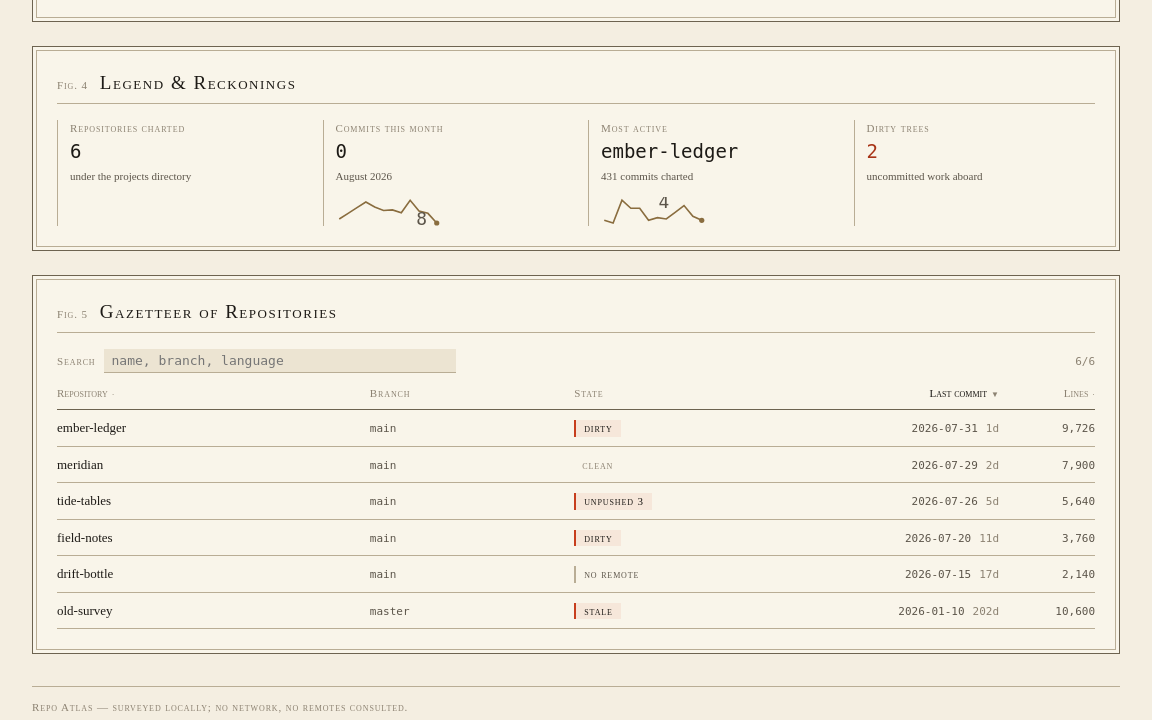
Test case: Fig. 5 — gazetteer › search narrows the rows live and reports the count
(page scrolled)
Check: the text "Gazetteer of Repositories" is shown, box [100, 300, 337, 324]
Check: the text with class "gazetteer__count" reads "6/6", box [1075, 354, 1095, 370]
Step 1. Type "tide" into the search field named "Search repositories" → (280, 361), box [104, 349, 456, 373]
(page scrolled)
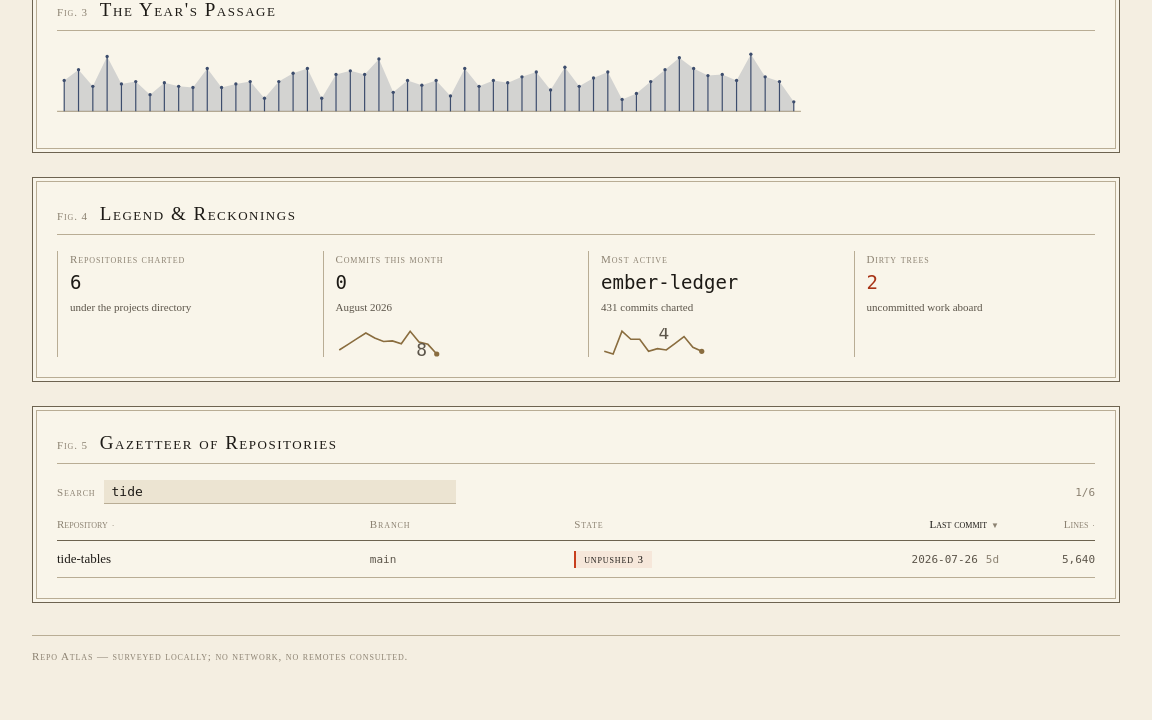
Check: the text with class "gazetteer__count" reads "1/6", box [1075, 485, 1095, 501]
Note: Search reaches languages too — Rust is drift-bottle's only language.
Step 2. Replace the text in the search field named "Search repositories" with "rust" → (280, 492), box [104, 480, 456, 504]
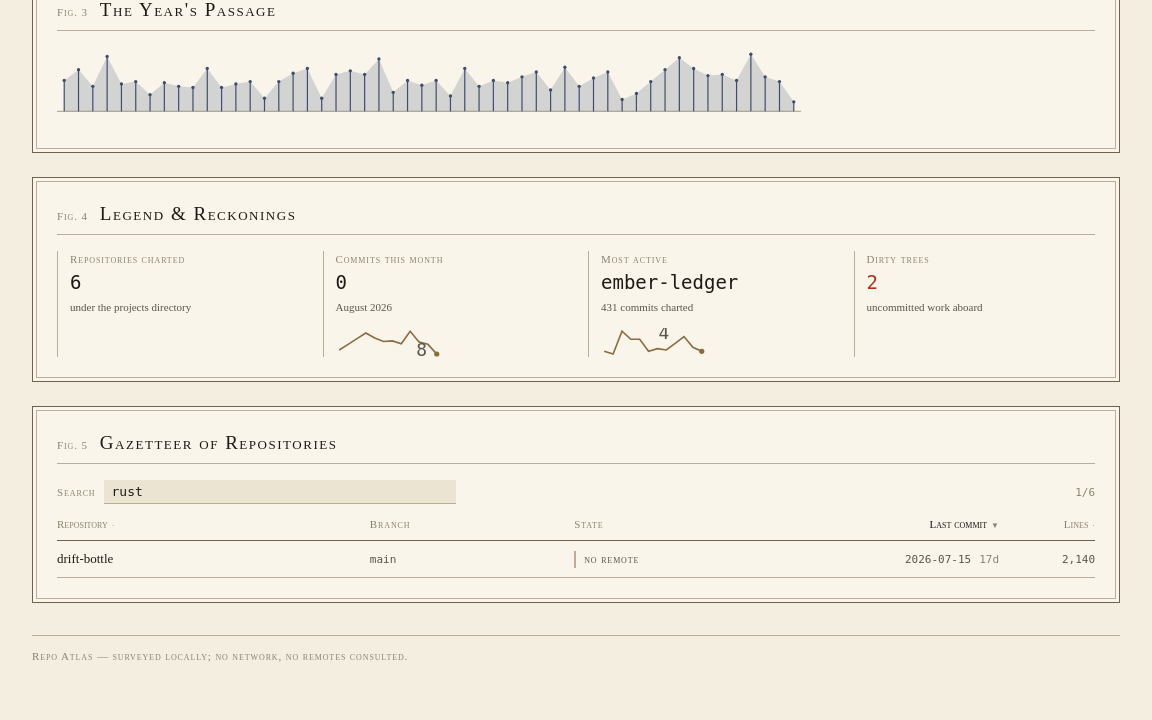
Step 3. Replace the text in the search field named "Search repositories" with "no such repo" → (280, 492), box [104, 480, 456, 504]
(page scrolled)
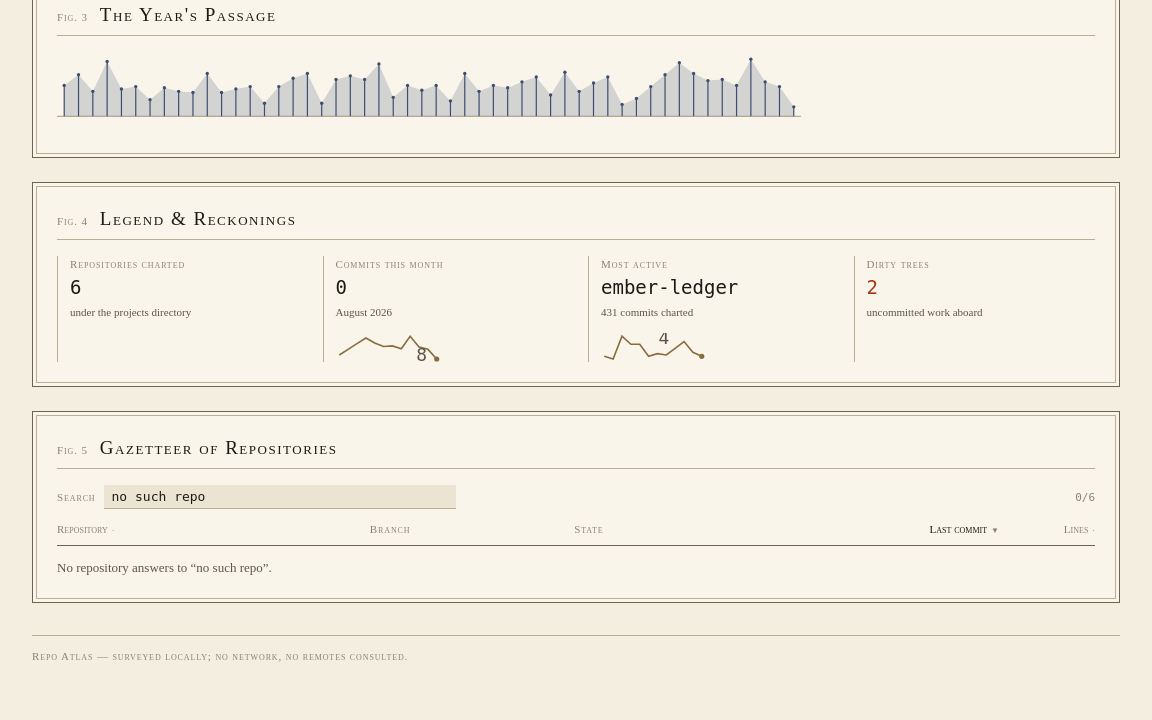
Check: no rows with class "gazetteer__row" are shown
Check: the text "No repository answers to “no such repo”." is shown, box [57, 560, 272, 575]
Step 4. Clear the search field named "Search repositories" → (280, 497), box [104, 485, 456, 509]
(page scrolled)
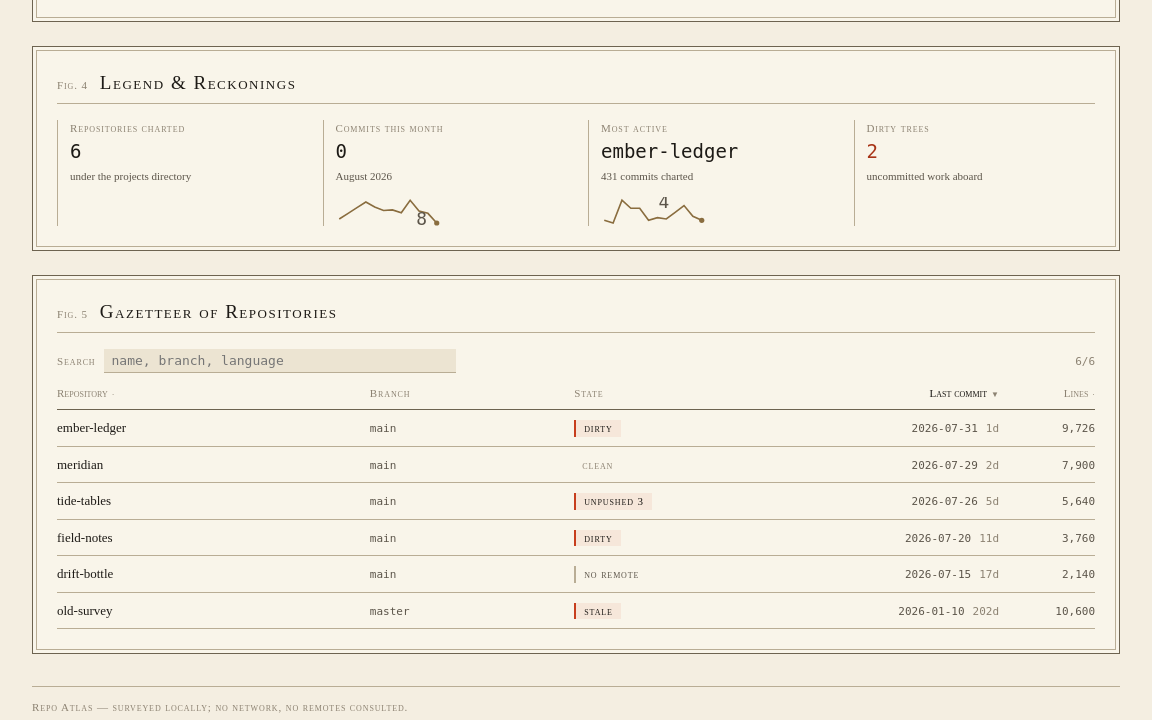
Check: the number of rows with class "gazetteer__row" is 6, box [57, 410, 1095, 447]; [57, 447, 1095, 483]; [57, 483, 1095, 520]; [57, 520, 1095, 556]; [57, 556, 1095, 593]; [57, 593, 1095, 629]
